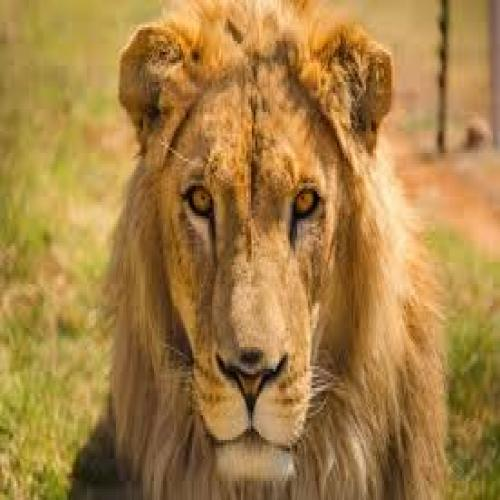lion-endangered: (114, 2, 396, 500)
